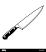Knife: (1, 4, 44, 39)
